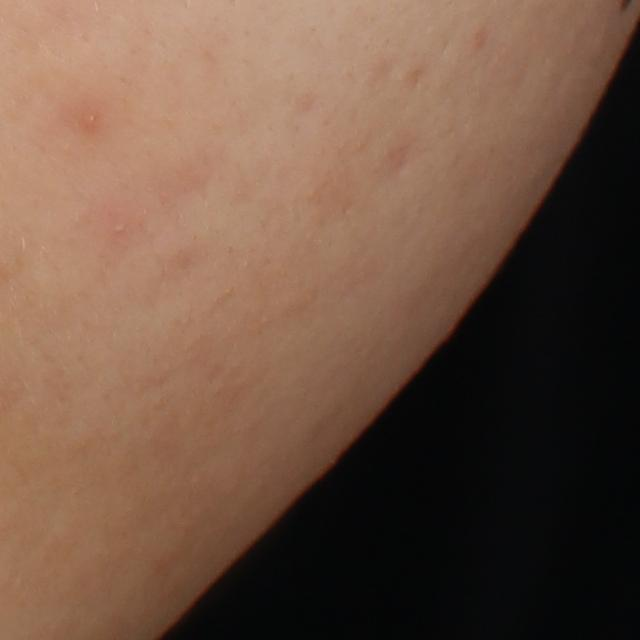atrophic_scar: (380, 140, 412, 181)
